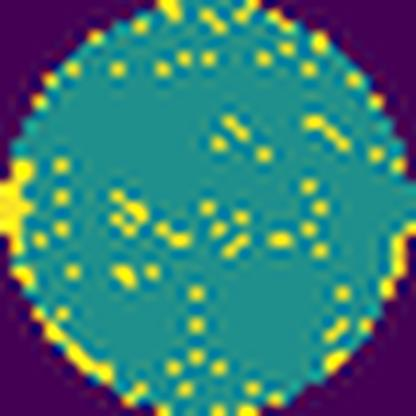Edge-Loc: (0, 154, 39, 257)
